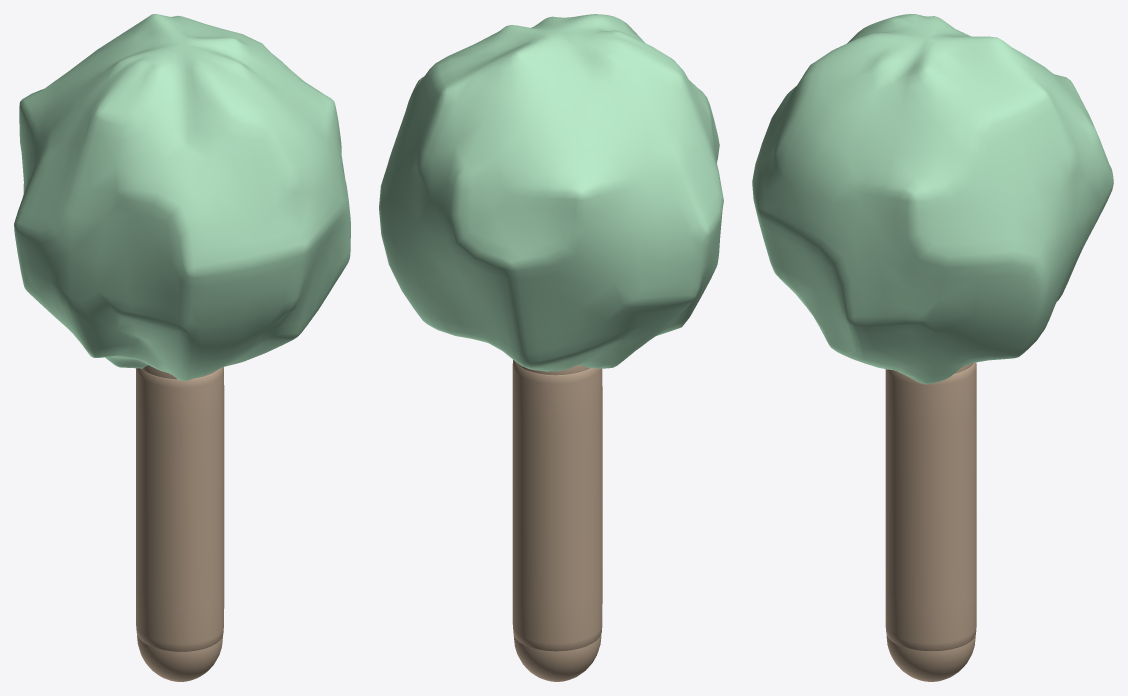
File: PROP_TreeSmall_v0.glb
3 renders of one model, left to right at view 1: azimuth 30°, elevation 25°; view 2: azimuth 150°, elevation 25°; view 3: azimuth 270°, elevation 25°, orthographic.
Parts seen in each view (by area): view 1: PROP_TreeSmall_v0; view 2: PROP_TreeSmall_v0; view 3: PROP_TreeSmall_v0.
Part boxes in pixels (x1,y1,x2,y2): PROP_TreeSmall_v0: (14, 14, 350, 681); PROP_TreeSmall_v0: (379, 14, 723, 681); PROP_TreeSmall_v0: (752, 14, 1113, 681).
Size of the model in its own units: 1.09 by 2.16 by 1.1.
